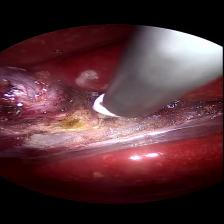Hook: (88, 91, 125, 130)
